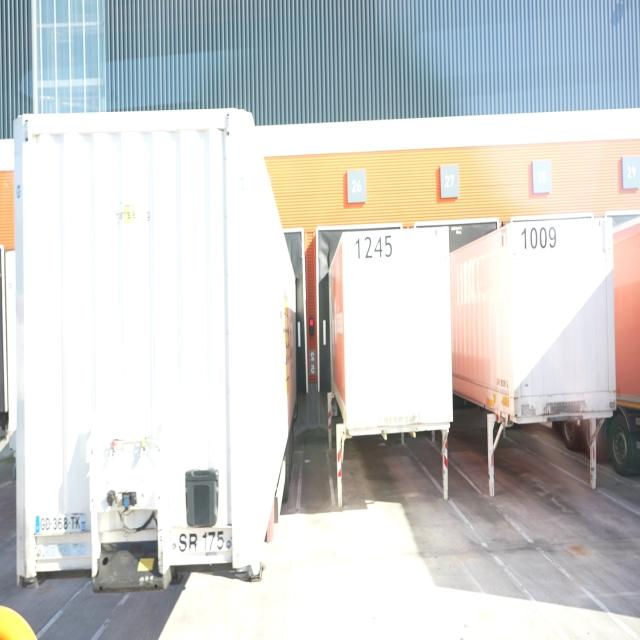Code: (351, 230, 396, 263), (519, 221, 560, 254)
